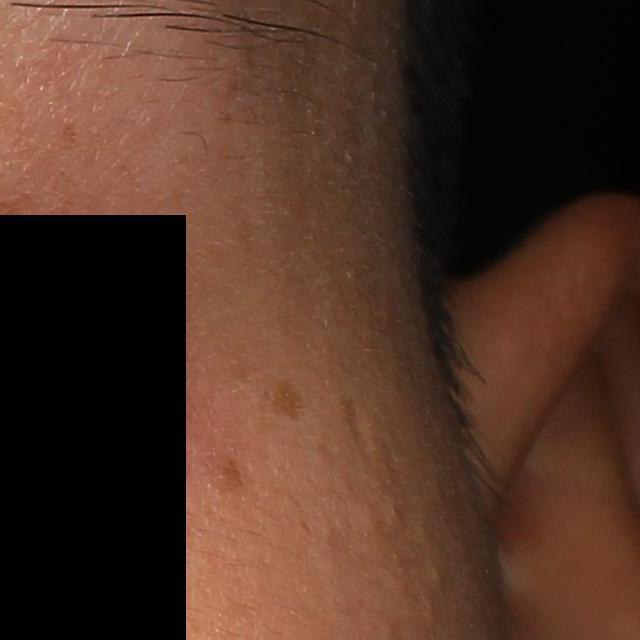comedo: (430, 565, 442, 584)
melasma: (269, 370, 312, 422), (54, 115, 82, 148)
